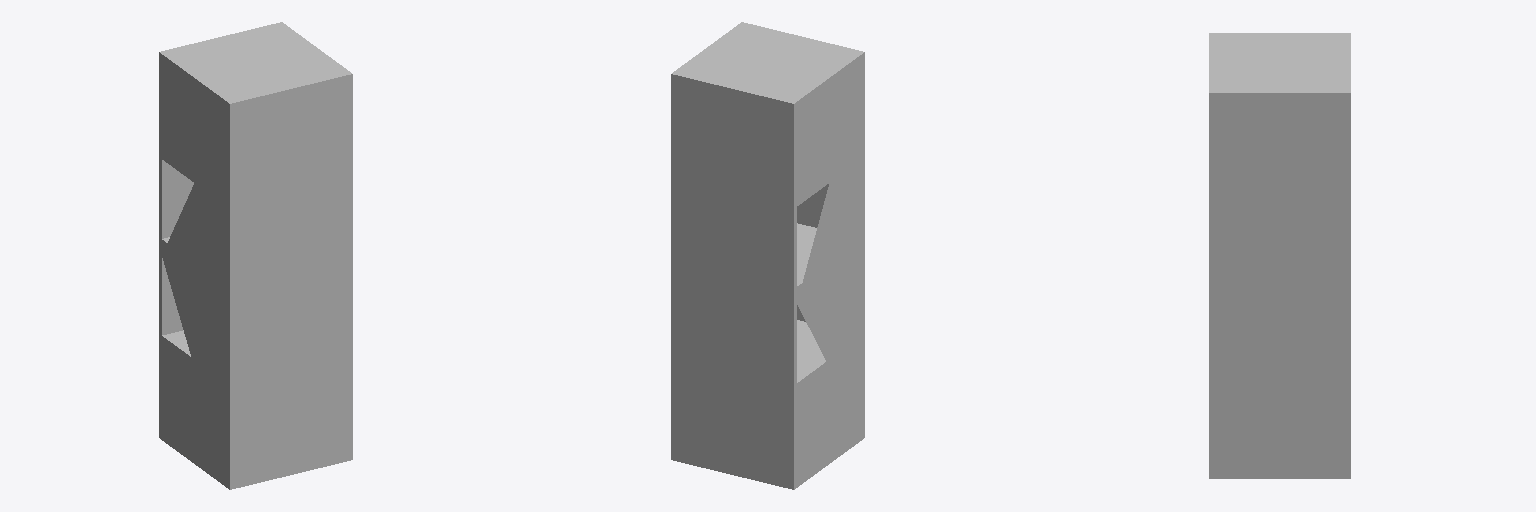
The model's file is FileCabent Empty.obj.
3 views of the same model, side by side, from view 1: azimuth 30°, elevation 25°; view 2: azimuth 150°, elevation 25°; view 3: azimuth 270°, elevation 25° (orthographic).
Visible parts, largest first — view 1: Plane.001; view 2: Plane.001; view 3: Plane.001.
Part boxes in pixels (bbox=[...]): Plane.001: bbox=[159, 22, 352, 489]; Plane.001: bbox=[671, 22, 864, 489]; Plane.001: bbox=[1209, 33, 1350, 478].
Bounding box in the file's own units: 2 × 6 × 2.